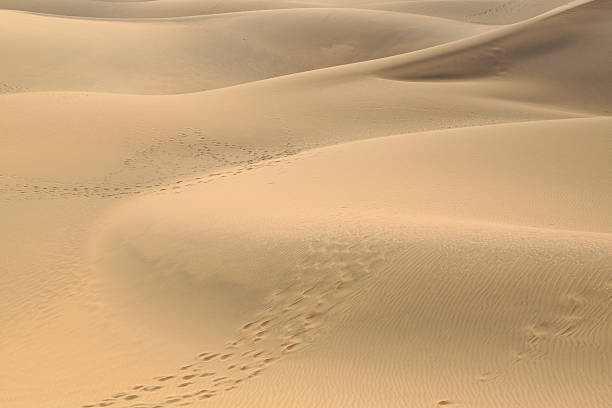human_footprint: (82, 238, 382, 407)
